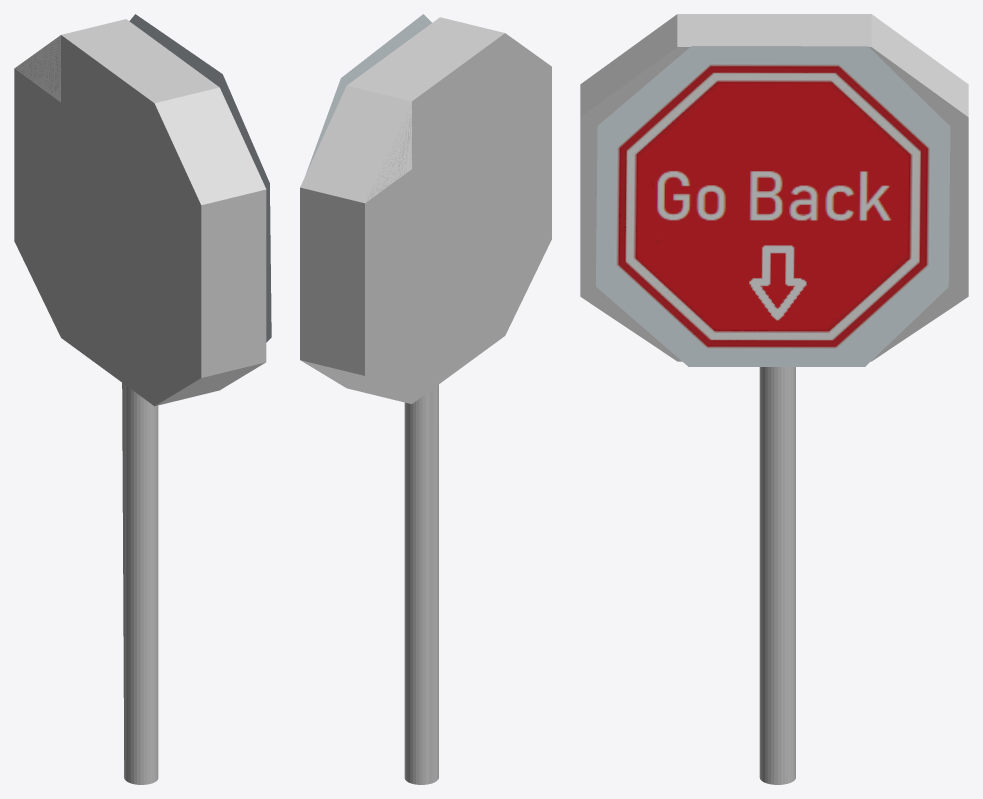
Rendered from semn back.fbx.
3 renders of one model, left to right at view 1: azimuth 30°, elevation 25°; view 2: azimuth 150°, elevation 25°; view 3: azimuth 270°, elevation 25°, orthographic. The views are drawn at different scales.
Visible parts, largest first — view 1: Cylinder, Plane; view 2: Cylinder, Plane; view 3: Plane, Cylinder.
Boxes of the visible parts, x1,y1,x2,y2 form: Cylinder: (14, 19, 266, 784); Plane: (129, 14, 271, 342); Cylinder: (300, 17, 551, 784); Plane: (306, 14, 431, 173); Plane: (596, 46, 950, 366); Cylinder: (580, 14, 968, 784).
Size of the model in its own units: 292 by 2598 by 1216.
Materials: 2 (1 with a texture image).
